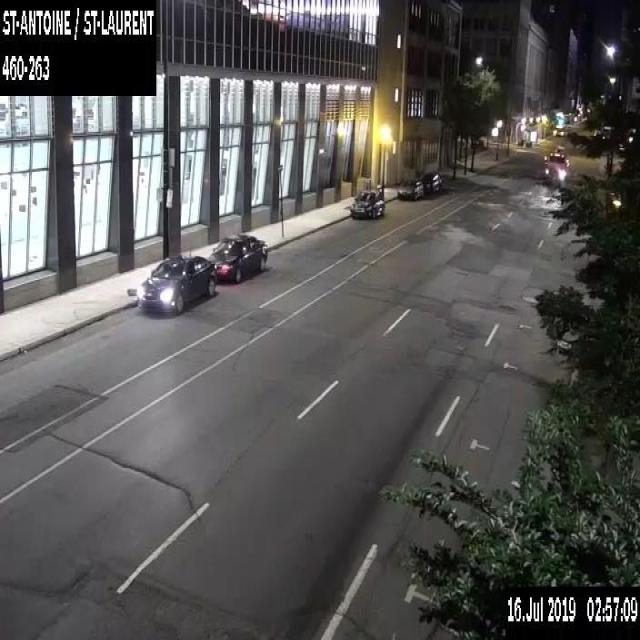vehicle: (136, 253, 217, 316), (205, 232, 268, 282), (349, 188, 386, 218), (543, 148, 569, 179), (396, 177, 424, 200), (420, 170, 442, 193)
